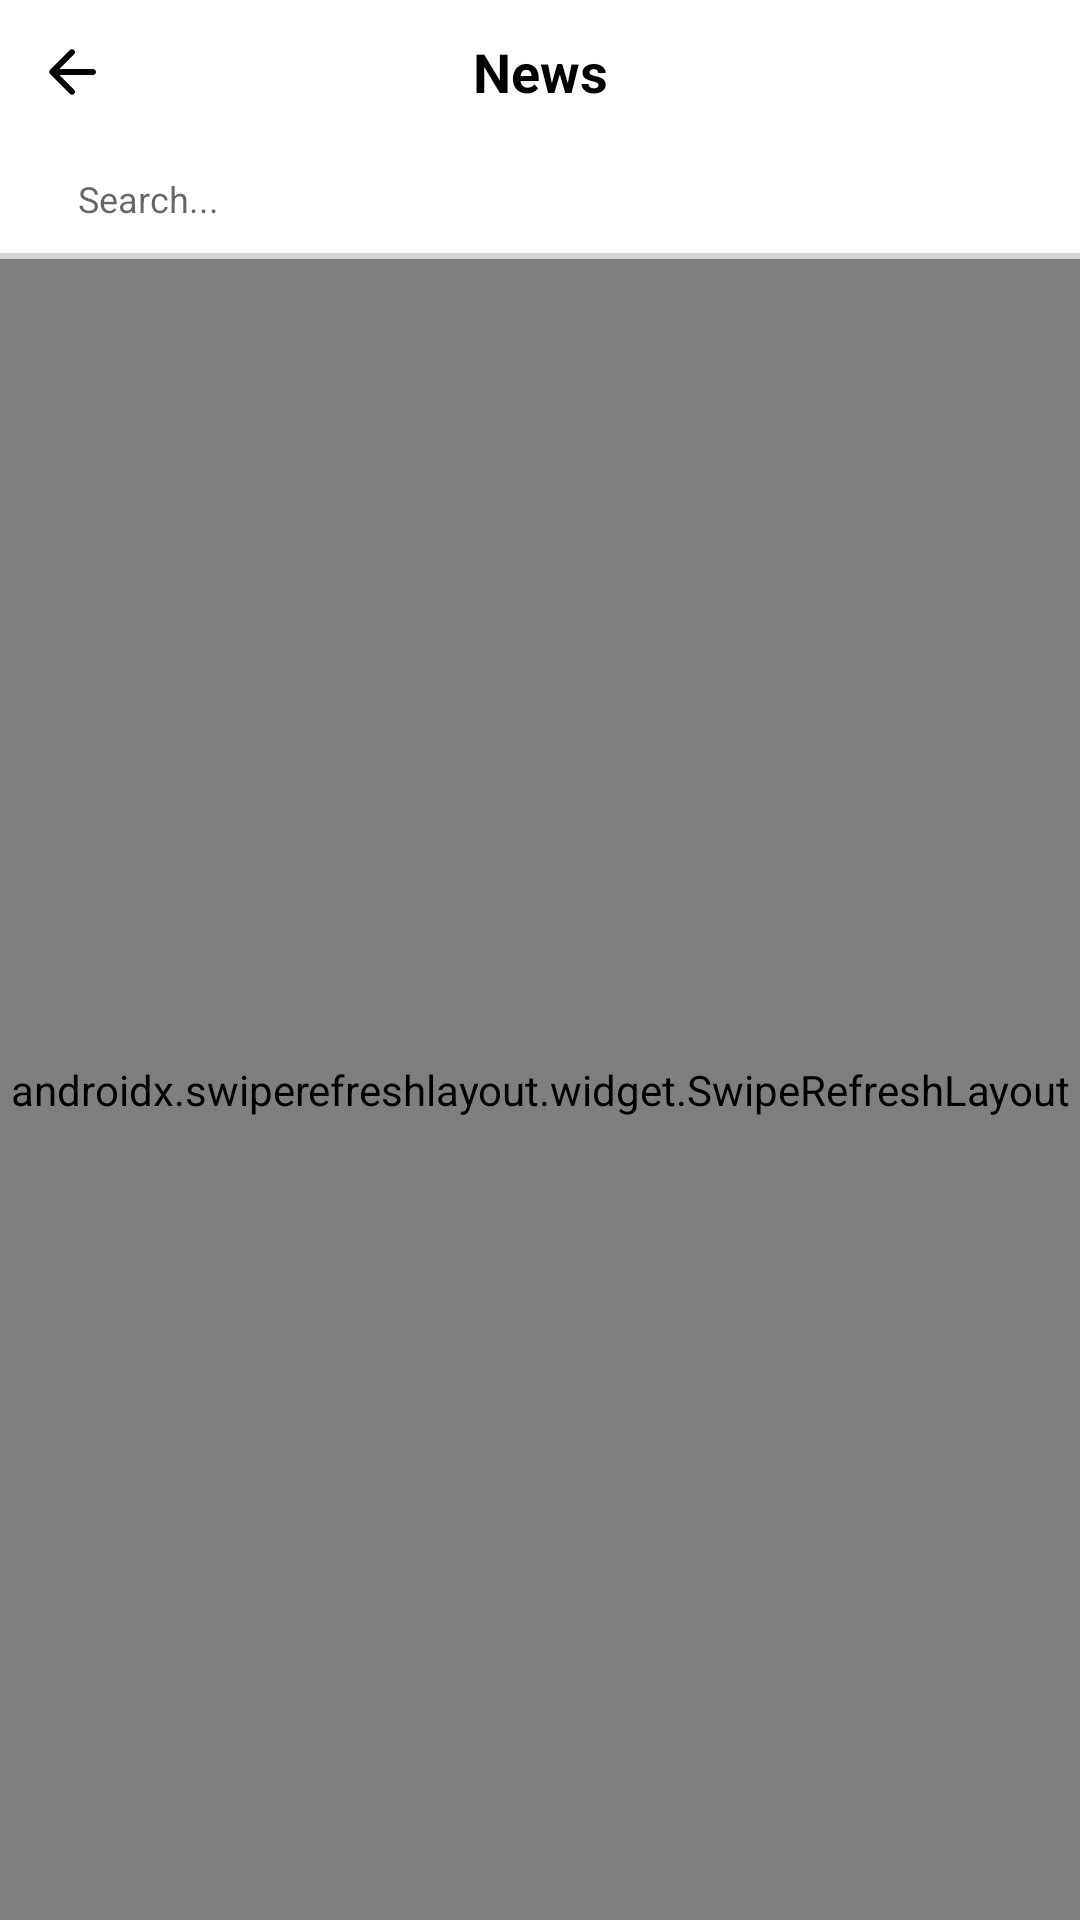

Screen size 1080px x 1920px. Icon name, then its box in pixels as [x1=x1, y1=y1, x2=x2, y2=y2]:
arrow back: [x1=49, y1=49, x2=96, y2=95]
